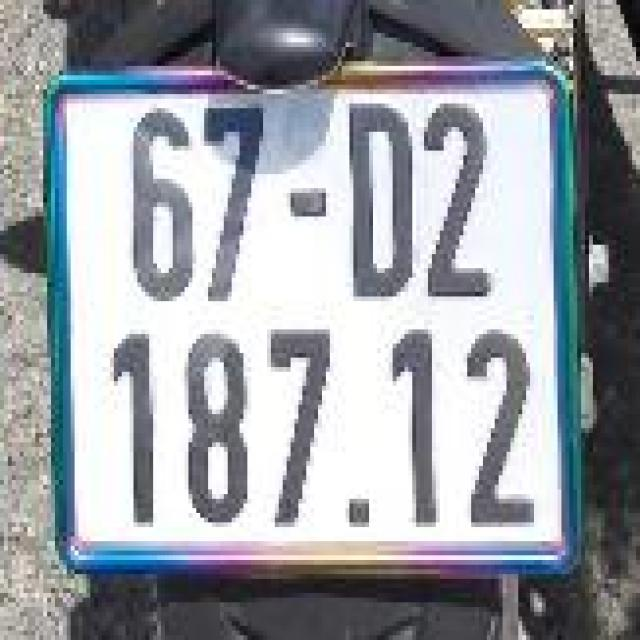1: (381, 320, 444, 536), (106, 320, 165, 541)
2: (456, 315, 558, 546), (422, 92, 512, 313)
6: (120, 96, 194, 318)
7: (257, 320, 340, 541), (198, 84, 273, 310)
8: (171, 320, 265, 522)
D: (334, 85, 420, 315)
